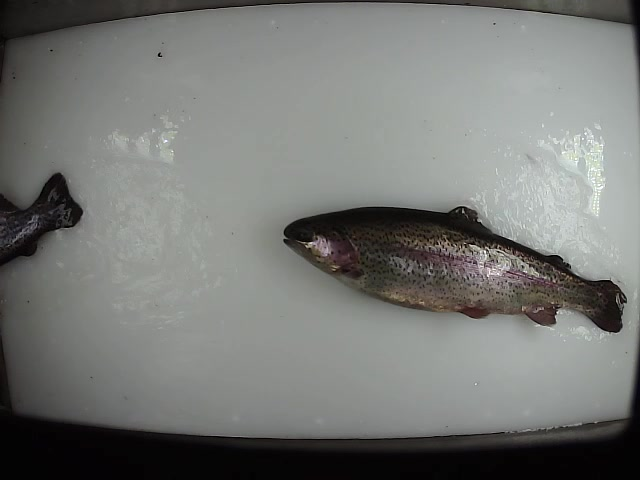fish: (280, 205, 628, 336), (1, 170, 87, 269)
